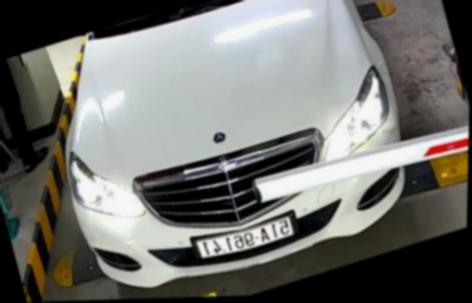License_Plate: (189, 212, 301, 263)
